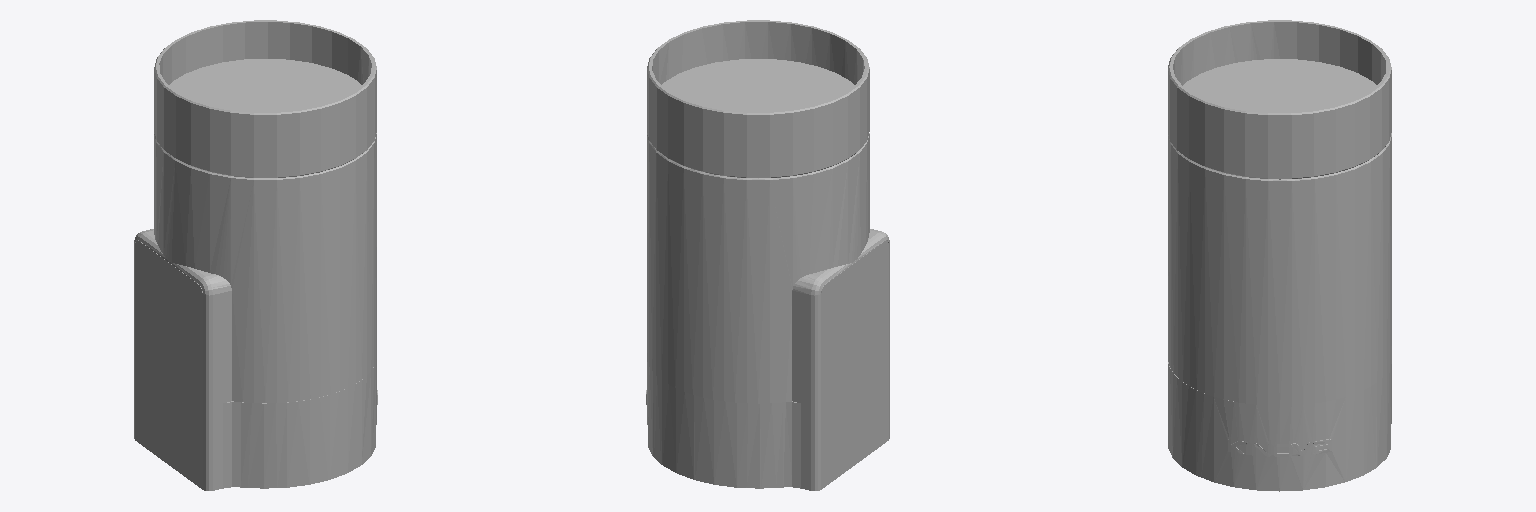
robot.urdf — GEN3_URDF_V12:
<robot name="GEN3_URDF_V12" version="1.0">
  <link name="base_link">
    <inertial>
      <origin xyz="-0.000648 -0.000166 0.084487" rpy="0 0 0" />
      <mass value="1.697" />
      <inertia ixx="0.004622" ixy="9E-06" ixz="6E-05" iyy="0.004495" iyz="9E-06" izz="0.002079" />
    </inertial>
    <visual>
      <origin xyz="0 0 0" rpy="0 0 0" />
      <geometry>
        <mesh filename="package://kortex_description/arms/gen3/meshes/base_link.obj" />
      </geometry>
      <material name="">
        <color rgba="0.75294 0.75294 0.75294 1" />
      </material>
    </visual>
    <collision>
      <origin xyz="0 0 0" rpy="0 0 0" />
      <geometry>
        <mesh filename="package://kortex_description/arms/gen3/meshes/base_link.obj" />
      </geometry>
    </collision>
  </link>
  <link name="Shoulder_Link">
    <inertial>
      <origin xyz="-2.3E-05 -0.010364 -0.07336" rpy="0 0 0" />
      <mass value="1.3773" />
      <inertia ixx="0.00457" ixy="1E-06" ixz="2E-06" iyy="0.004831" iyz="0.000448" izz="0.001409" />
    </inertial>
    <visual>
      <origin xyz="0 0 0" rpy="0 0 0" />
      <geometry>
        <mesh filename="package://kortex_description/arms/gen3/meshes/Shoulder_Link.obj" />
      </geometry>
      <material name="">
        <color rgba="0.75294 0.75294 0.75294 1" />
      </material>
    </visual>
    <collision>
      <origin xyz="0 0 0" rpy="0 0 0" />
      <geometry>
        <mesh filename="package://kortex_description/arms/gen3/meshes/Shoulder_Link.obj" />
      </geometry>
    </collision>
  </link>
  <joint name="Actuator1" type="continuous">
    <origin xyz="0 0 0.15643" rpy="3.1416 2.7629E-18 -4.9305E-36" />
    <parent link="base_link" />
    <child link="Shoulder_Link" />
    <axis xyz="0 0 1" />
    <limit effort="39" velocity="0.8727" />
  </joint>
  <link name="HalfArm1_Link">
    <inertial>
      <origin xyz="-4.4E-05 -0.09958 -0.013278" rpy="0 0 0" />
      <mass value="1.1636" />
      <inertia ixx="0.011088" ixy="5E-06" ixz="0" iyy="0.001072" iyz="-0.000691" izz="0.011255" />
    </inertial>
    <visual>
      <origin xyz="0 0 0" rpy="0 0 0" />
      <geometry>
        <mesh filename="package://kortex_description/arms/gen3/meshes/HalfArm1_Link.obj" />
      </geometry>
      <material name="">
        <color rgba="0.75294 0.75294 0.75294 1" />
      </material>
    </visual>
    <collision>
      <origin xyz="0 0 0" rpy="0 0 0" />
      <geometry>
        <mesh filename="package://kortex_description/arms/gen3/meshes/HalfArm1_Link.obj" />
      </geometry>
    </collision>
  </link>
  <joint name="Actuator2" type="revolute">
    <origin xyz="0 0.005375 -0.12838" rpy="1.5708 2.1343E-17 -1.1102E-16" />
    <parent link="Shoulder_Link" />
    <child link="HalfArm1_Link" />
    <axis xyz="0 0 1" />
    <limit lower="-2.41" upper="2.41" effort="39" velocity="0.8727" />
  </joint>
  <link name="HalfArm2_Link">
    <inertial>
      <origin xyz="-4.4E-05 -0.006641 -0.117892" rpy="0 0 0" />
      <mass value="1.1636" />
      <inertia ixx="0.010932" ixy="0" ixz="-7E-06" iyy="0.011127" iyz="0.000606" izz="0.001043" />
    </inertial>
    <visual>
      <origin xyz="0 0 0" rpy="0 0 0" />
      <geometry>
        <mesh filename="package://kortex_description/arms/gen3/meshes/HalfArm2_Link.obj" />
      </geometry>
      <material name="">
        <color rgba="0.75294 0.75294 0.75294 1" />
      </material>
    </visual>
    <collision>
      <origin xyz="0 0 0" rpy="0 0 0" />
      <geometry>
        <mesh filename="package://kortex_description/arms/gen3/meshes/HalfArm2_Link.obj" />
      </geometry>
    </collision>
  </link>
  <joint name="Actuator3" type="continuous">
    <origin xyz="0 -0.21038 -0.006375" rpy="-1.5708 1.2326E-32 -2.9122E-16" />
    <parent link="HalfArm1_Link" />
    <child link="HalfArm2_Link" />
    <axis xyz="0 0 1" />
    <limit effort="39" velocity="0.8727" />
  </joint>
  <link name="ForeArm_Link">
    <inertial>
      <origin xyz="-1.8E-05 -0.075478 -0.015006" rpy="0 0 0" />
      <mass value="0.9302" />
      <inertia ixx="0.008147" ixy="-1E-06" ixz="0" iyy="0.000631" iyz="-0.0005" izz="0.008316" />
    </inertial>
    <visual>
      <origin xyz="0 0 0" rpy="0 0 0" />
      <geometry>
        <mesh filename="package://kortex_description/arms/gen3/meshes/ForeArm_Link.obj" />
      </geometry>
      <material name="">
        <color rgba="0.75294 0.75294 0.75294 1" />
      </material>
    </visual>
    <collision>
      <origin xyz="0 0 0" rpy="0 0 0" />
      <geometry>
        <mesh filename="package://kortex_description/arms/gen3/meshes/ForeArm_Link.obj" />
      </geometry>
    </collision>
  </link>
  <joint name="Actuator4" type="revolute">
    <origin xyz="0 0.006375 -0.21038" rpy="1.5708 -6.6954E-17 -1.6653E-16" />
    <parent link="HalfArm2_Link" />
    <child link="ForeArm_Link" />
    <axis xyz="0 0 1" />
    <limit lower="-2.66" upper="2.66" effort="39" velocity="0.8727" />
  </joint>
  <link name="SphericalWrist1_Link">
    <inertial>
      <origin xyz="1E-06 -0.009432 -0.063883" rpy="0 0 0" />
      <mass value="0.6781" />
      <inertia ixx="0.001596" ixy="0" ixz="0" iyy="0.001607" iyz="0.000256" izz="0.000399" />
    </inertial>
    <visual>
      <origin xyz="0 0 0" rpy="0 0 0" />
      <geometry>
        <mesh filename="package://kortex_description/arms/gen3/meshes/SphericalWrist1_Link.obj" />
      </geometry>
      <material name="">
        <color rgba="0.75294 0.75294 0.75294 1" />
      </material>
    </visual>
    <collision>
      <origin xyz="0 0 0" rpy="0 0 0" />
      <geometry>
        <mesh filename="package://kortex_description/arms/gen3/meshes/SphericalWrist1_Link.obj" />
      </geometry>
    </collision>
  </link>
  <joint name="Actuator5" type="continuous">
    <origin xyz="0 -0.20843 -0.006375" rpy="-1.5708 2.2204E-16 -6.373E-17" />
    <parent link="ForeArm_Link" />
    <child link="SphericalWrist1_Link" />
    <axis xyz="0 0 1" />
    <limit effort="9" velocity="0.8727" />
  </joint>
  <link name="SphericalWrist2_Link">
    <inertial>
      <origin xyz="1E-06 -0.045483 -0.00965" rpy="0 0 0" />
      <mass value="0.6781" />
      <inertia ixx="0.001641" ixy="0" ixz="0" iyy="0.00041" iyz="-0.000278" izz="0.001641" />
    </inertial>
    <visual>
      <origin xyz="0 0 0" rpy="0 0 0" />
      <geometry>
        <mesh filename="package://kortex_description/arms/gen3/meshes/SphericalWrist2_Link.obj" />
      </geometry>
      <material name="">
        <color rgba="0.75294 0.75294 0.75294 1" />
      </material>
    </visual>
    <collision>
      <origin xyz="0 0 0" rpy="0 0 0" />
      <geometry>
        <mesh filename="package://kortex_description/arms/gen3/meshes/SphericalWrist2_Link.obj" />
      </geometry>
    </collision>
  </link>
  <joint name="Actuator6" type="revolute">
    <origin xyz="0 0.00017505 -0.10593" rpy="1.5708 9.2076E-28 -8.2157E-15" />
    <parent link="SphericalWrist1_Link" />
    <child link="SphericalWrist2_Link" />
    <axis xyz="0 0 1" />
    <limit lower="-2.23" upper="2.23" effort="9" velocity="0.8727" />
  </joint>
  <link name="Bracelet_Link">
    <inertial>
      <origin xyz="-0.000281 -0.011402 -0.029798" rpy="0 0 0" />
      <mass value="0.5006" />
      <inertia ixx="0.000587" ixy="3E-06" ixz="3E-06" iyy="0.000369" iyz="0.000118" izz="0.000609" />
    </inertial>
    <visual>
      <origin xyz="0 0 0" rpy="0 0 0" />
      <geometry>
        <mesh filename="package://kortex_description/arms/gen3/meshes/Bracelet_Link.obj" />
      </geometry>
      <material name="">
        <color rgba="0.75294 0.75294 0.75294 1" />
      </material>
    </visual>
    <collision>
      <origin xyz="0 0 0" rpy="0 0 0" />
      <geometry>
        <mesh filename="package://kortex_description/arms/gen3/meshes/Bracelet_Link.obj" />
      </geometry>
    </collision>
  </link>
  <joint name="Actuator7" type="continuous">
    <origin xyz="0 -0.10593 -0.00017505" rpy="-1.5708 -5.5511E-17 9.6396E-17" />
    <parent link="SphericalWrist2_Link" />
    <child link="Bracelet_Link" />
    <axis xyz="0 0 1" />
    <limit effort="9" velocity="0.8727" />
  </joint>
  <link name="EndEffector_Link" />
  <joint name="EndEffector" type="fixed">
    <origin xyz="0 0 -0.0615250000000001" rpy="3.14159265358979 1.09937075168372E-32 0" />
    <parent link="Bracelet_Link" />
    <child link="EndEffector_Link" />
    <axis xyz="0 0 0" />
  </joint>
</robot>

--- What the picture shows (computed from the rendered views, not written in the file) ---
3 views of the same robot in one strip: view 1: azimuth 30°, elevation 25°; view 2: azimuth 150°, elevation 25°; view 3: azimuth 270°, elevation 25° (orthographic).
Model GEN3_URDF_V12 with 9 links and 8 joints (3 revolute, 4 continuous, 1 fixed), rooted at base_link, posed every joint at zero.
Links seen in each view (by area): view 1: base_link; view 2: base_link; view 3: base_link.
Boxes of the visible links, <box> form: base_link: <box>134,20,377,490</box>; base_link: <box>646,20,889,490</box>; base_link: <box>1168,20,1391,491</box>.
Size in the robot's own frame: 0.0925 by 0.0922 by 0.1708 metres.
1 mesh visuals loaded from 8 distinct referenced files (1 OBJ); not drawn: 7 (reference not matched to a file when rendering).